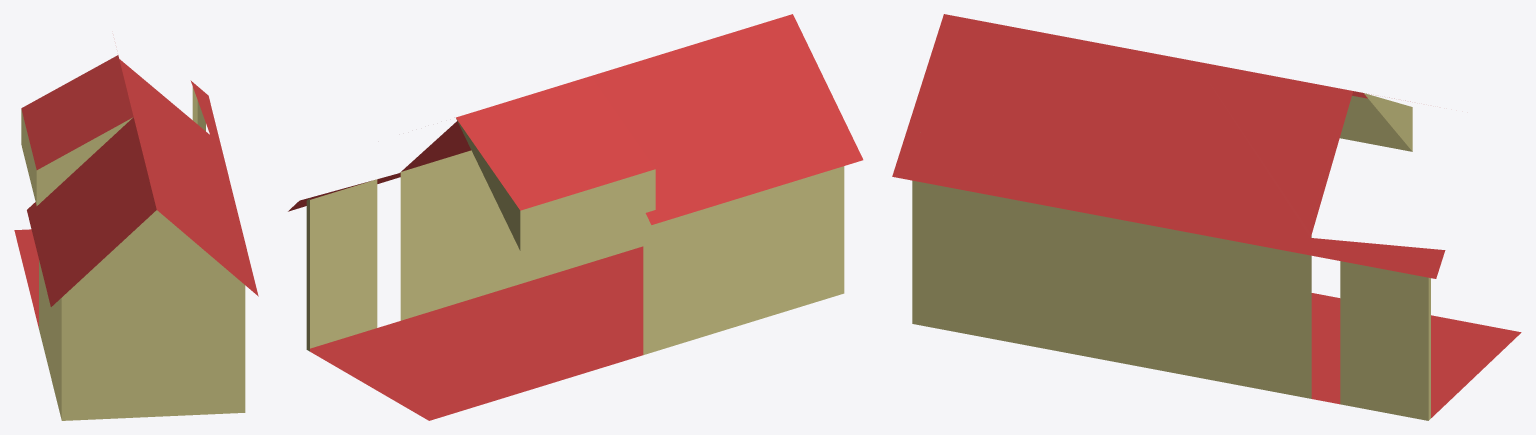
3 views of the same model, side by side, from view 1: azimuth 30°, elevation 25°; view 2: azimuth 150°, elevation 25°; view 3: azimuth 270°, elevation 25° (orthographic). The views are drawn at different scales.
Size of the model in its own units: 23.7 by 31.12 by 14.39.
